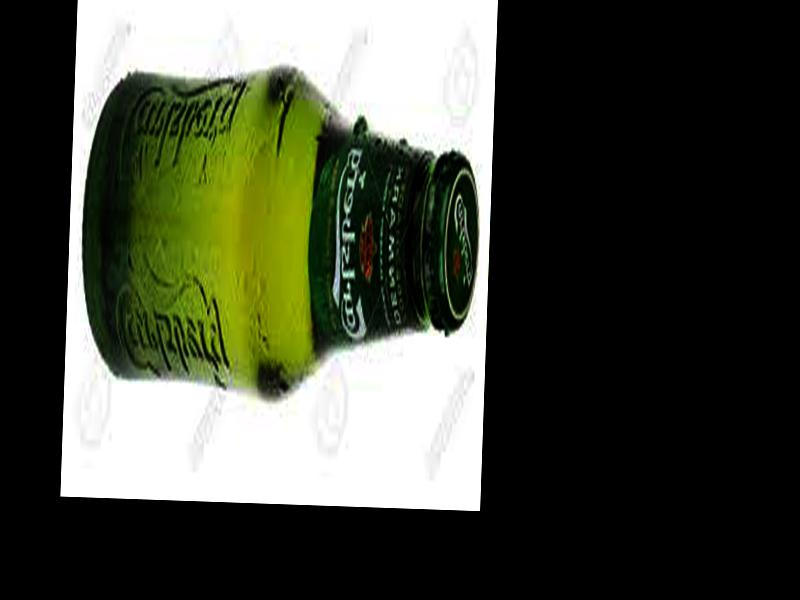Beer: (75, 63, 484, 409)
